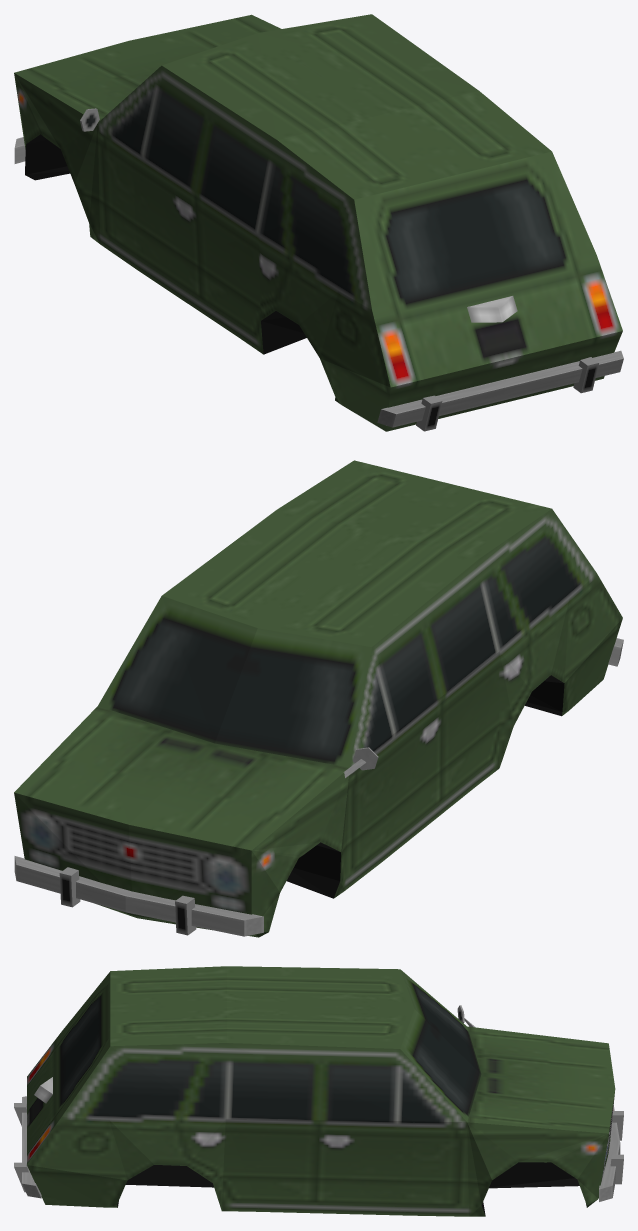
The model's file is body.obj.
The picture shows the model from 3 angles, top to bottom: view 1: azimuth 30°, elevation 25°; view 2: azimuth 150°, elevation 25°; view 3: azimuth 270°, elevation 25°; orthographic projection. The views are drawn at different scales.
Size of the model in its own units: 1.92 by 1.39 by 4.62.
1 material, 1 textured.
